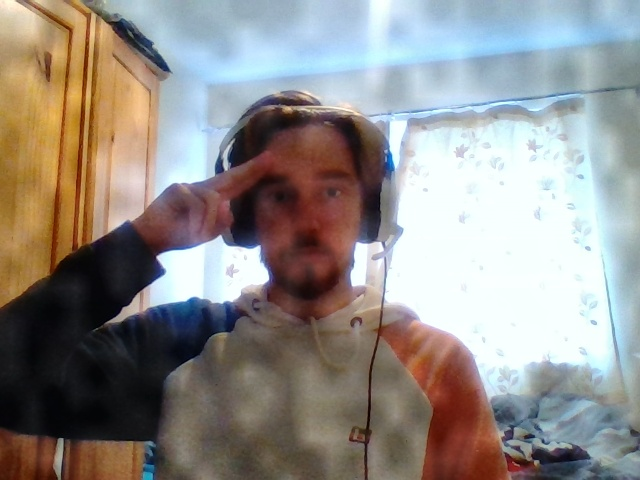name: (151, 152, 274, 243)
